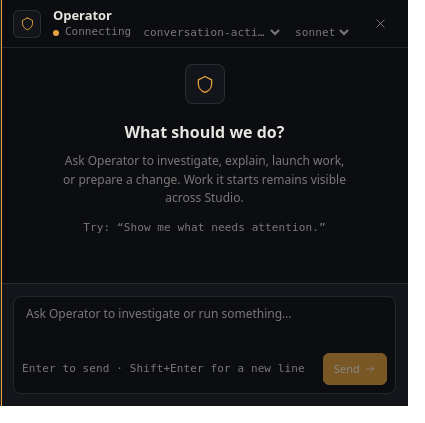
Scenario: OperatorPanel › falls back from a stale cached id and keeps earlier daemon history reachable
Select "Prior conversation" in the dropdown named "Operator conversation" at (211, 33), box [139,25,283,40]
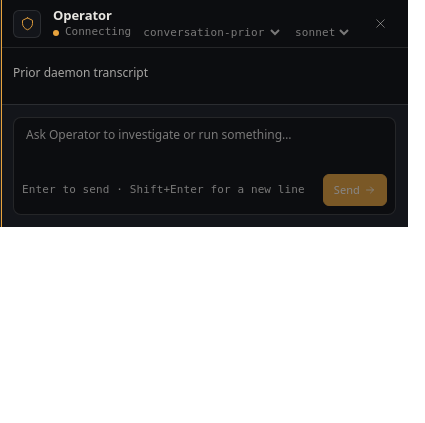
expect the text "Prior daemon transcript" is shown: met, box [13,64,148,83]
